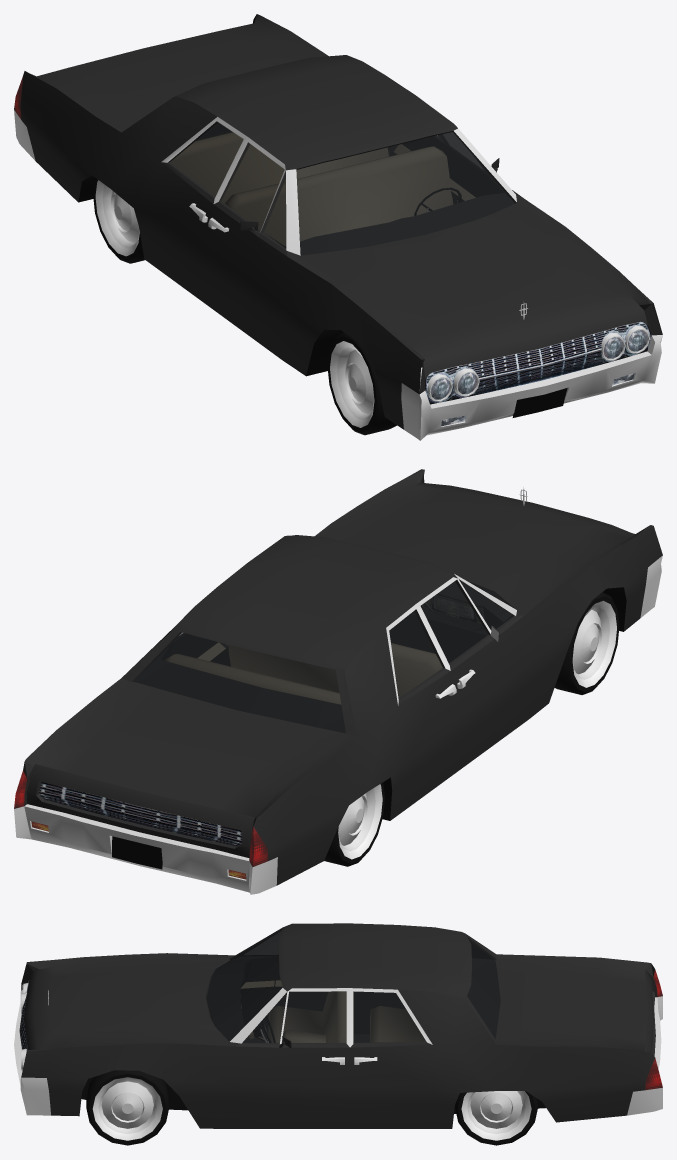
The model's file is lincoln_continental_1962_-_lowpoly_free_model.glb.
The picture shows the model from 3 angles, top to bottom: view 1: azimuth 30°, elevation 25°; view 2: azimuth 150°, elevation 25°; view 3: azimuth 270°, elevation 25°; orthographic projection. The views are drawn at different scales.
Parts seen in each view (by area): view 1: Lincoln Continental 1962_9, continental Windows_8, continental Seats_6, continental Front wheels_4, continental Rear wheels_5, continental Front lights_3, continenatl Plates_2; view 2: Lincoln Continental 1962_9, continental Windows_8, continental Seats_6, continental Front wheels_4, continental Rear wheels_5, continenatl Plates_2; view 3: Lincoln Continental 1962_9, continental Windows_8, continental Front wheels_4, continental Seats_6, continental Rear wheels_5.
Part boxes in pixels (x1,y1,x2,y2): Lincoln Continental 1962_9: (14, 14, 662, 440); continental Windows_8: (170, 122, 514, 255); continental Seats_6: (171, 132, 452, 245); continental Front wheels_4: (327, 332, 396, 435); continental Rear wheels_5: (93, 178, 144, 263); continental Front lights_3: (419, 325, 649, 401); continenatl Plates_2: (512, 388, 567, 417); Lincoln Continental 1962_9: (14, 469, 662, 894); continental Windows_8: (134, 581, 513, 733); continental Seats_6: (165, 643, 442, 704); continental Front wheels_4: (554, 592, 619, 694); continental Rear wheels_5: (324, 782, 384, 866); continenatl Plates_2: (112, 836, 162, 869); Lincoln Continental 1962_9: (14, 923, 662, 1128); continental Windows_8: (206, 930, 500, 1042); continental Front wheels_4: (86, 1070, 169, 1145); continental Seats_6: (269, 991, 425, 1042); continental Rear wheels_5: (455, 1091, 537, 1145).
Size of the model in its own units: 1.98 by 1.36 by 5.46.
9 materials, 2 textured.
